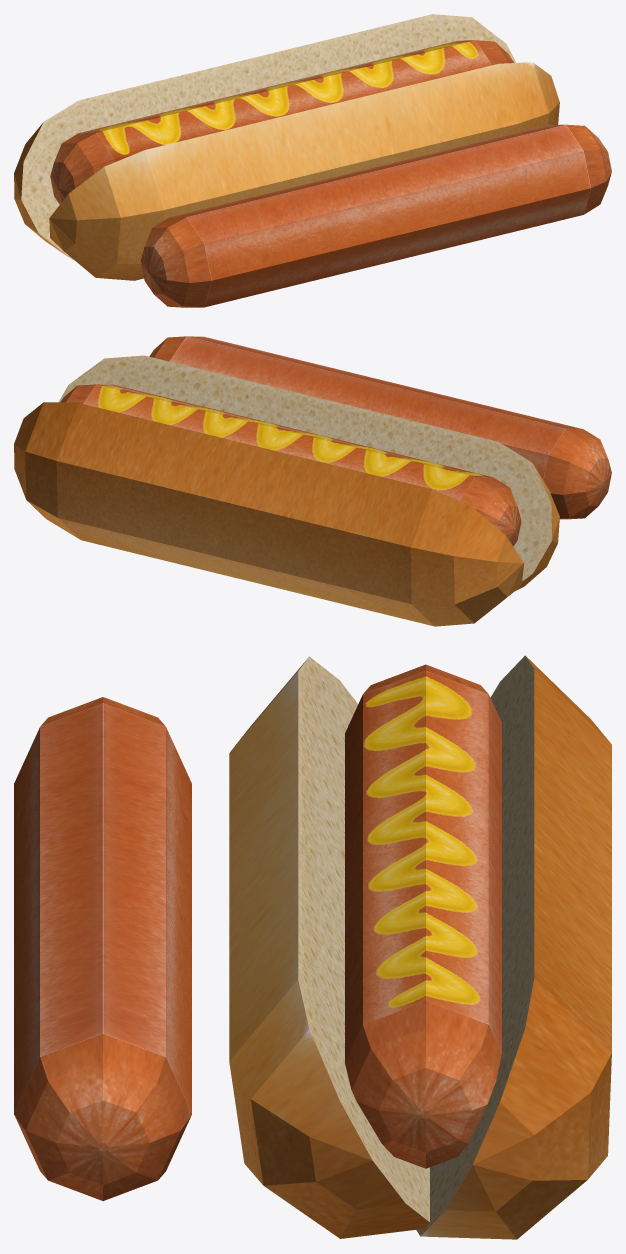
The model's file is psx_hot_dog.glb.
3 views of the same model, one above another, from view 1: azimuth 30°, elevation 25°; view 2: azimuth 150°, elevation 25°; view 3: azimuth 270°, elevation 25° (orthographic). The views are drawn at different scales.
Parts seen in each view (by area): view 1: Sausage, Bun01, Bun02, Sausage_with_mustard; view 2: Bun02, Bun01, Sausage, Sausage_with_mustard; view 3: Sausage, Sausage_with_mustard, Bun01, Bun02.
Part boxes in pixels (x1,y1,x2,y2): Sausage: [140, 124, 611, 307]; Bun01: [49, 62, 559, 280]; Bun02: [14, 14, 516, 259]; Sausage_with_mustard: [50, 40, 514, 204]; Bun02: [14, 402, 523, 626]; Bun01: [58, 355, 559, 590]; Sausage: [149, 336, 611, 519]; Sausage_with_mustard: [60, 384, 521, 546]; Sausage: [14, 697, 191, 1200]; Sausage_with_mustard: [345, 664, 501, 1168]; Bun01: [229, 656, 429, 1238]; Bun02: [416, 655, 611, 1239].
Size of the model in its own units: 0.1978 by 0.0524 by 0.1142.
Materials: 1 (1 with a texture image).
